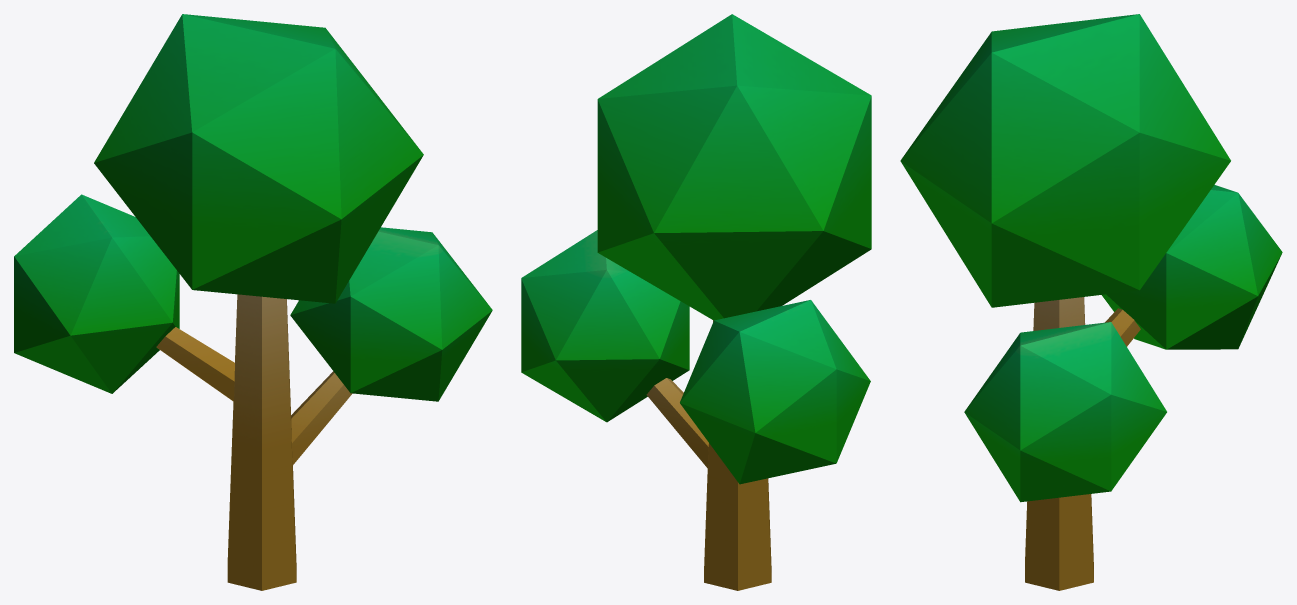
Rendered from Tree_05__4_.fbx.
3 renders of one model, left to right at view 1: azimuth 30°, elevation 25°; view 2: azimuth 150°, elevation 25°; view 3: azimuth 270°, elevation 25°, orthographic. The views are drawn at different scales.
Parts seen in each view (by area): view 1: Tree_05__4_; view 2: Tree_05__4_; view 3: Tree_05__4_.
Boxes of the visible parts, x1,y1,x2,y2 form: Tree_05__4_: (14, 14, 492, 590); Tree_05__4_: (521, 14, 871, 590); Tree_05__4_: (900, 14, 1282, 590).
Bounding box in the file's own units: 9840 × 13167 × 8437.
